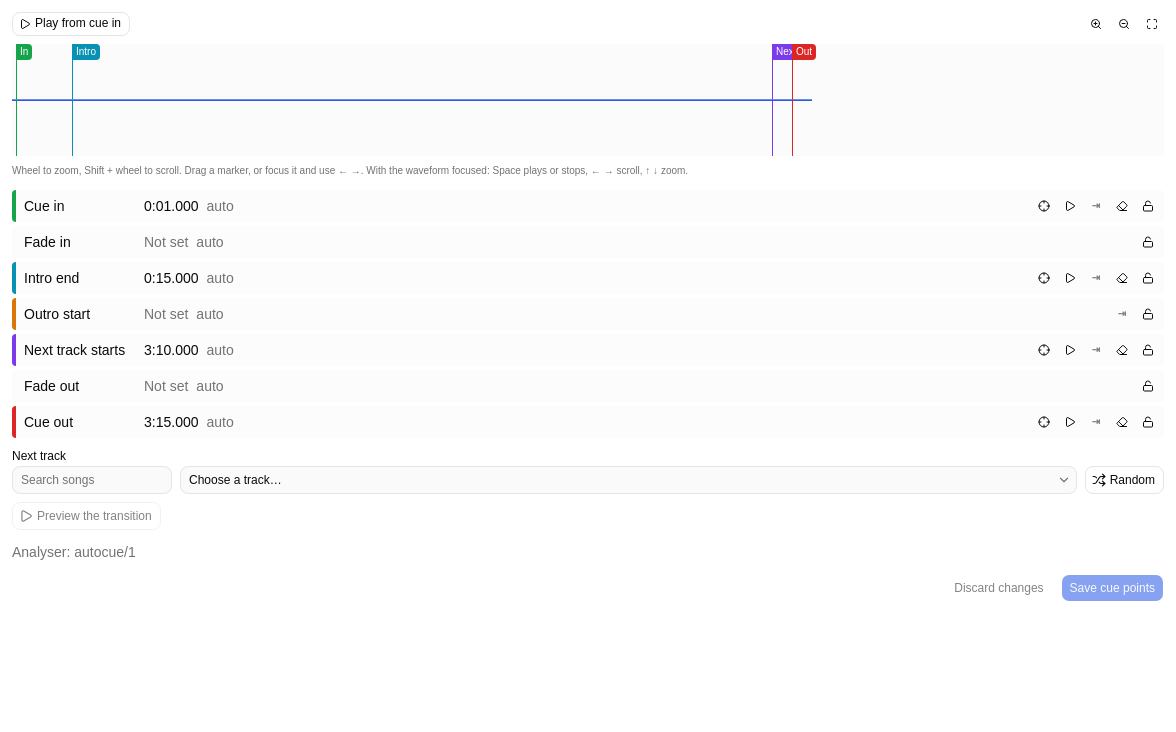
Scenario: cue editor › plays from a marker, past cue-out included, and leaves the cursor there
Expected: the slider named "Cue in" is shown, [16,44,32,60]
What coordinates should you click on to do the following:
click the button named "Play from Cue out"
I would click on:
 (1070, 422)
Its box is [1058,410,1082,434].
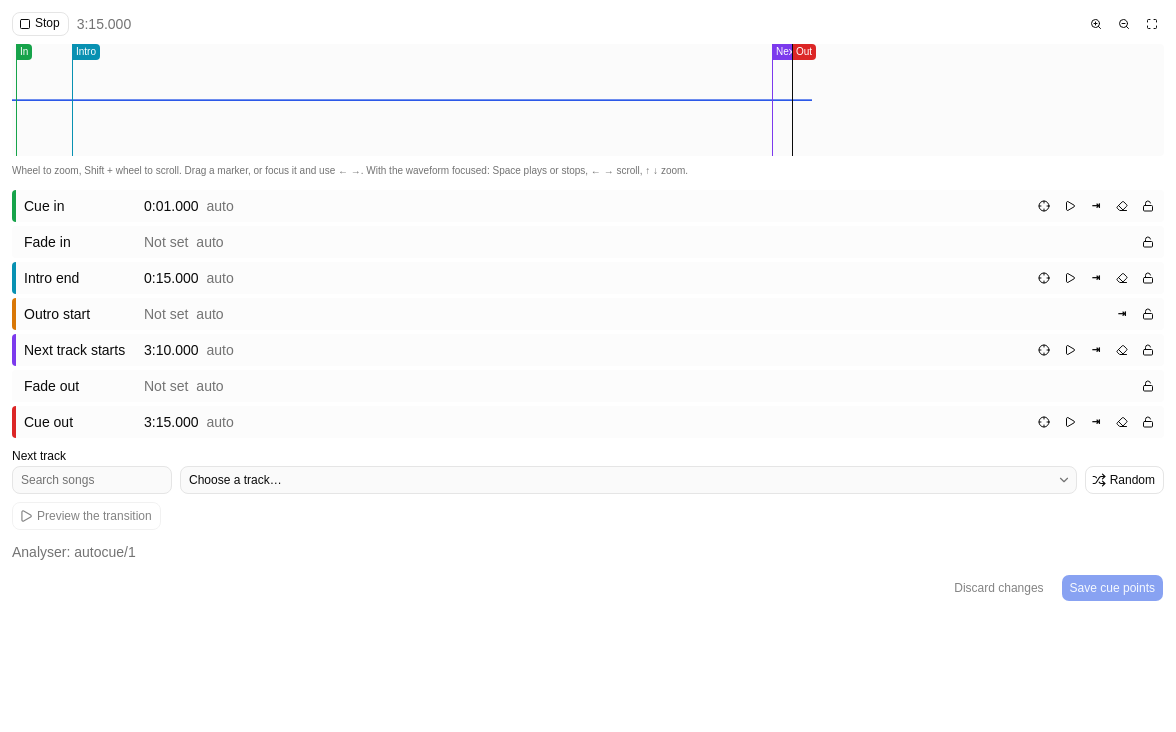
What coordinates should you click on to do the following:
click the button "Stop"
I would click on:
 (40, 24)
Its box is [12,12,69,36].
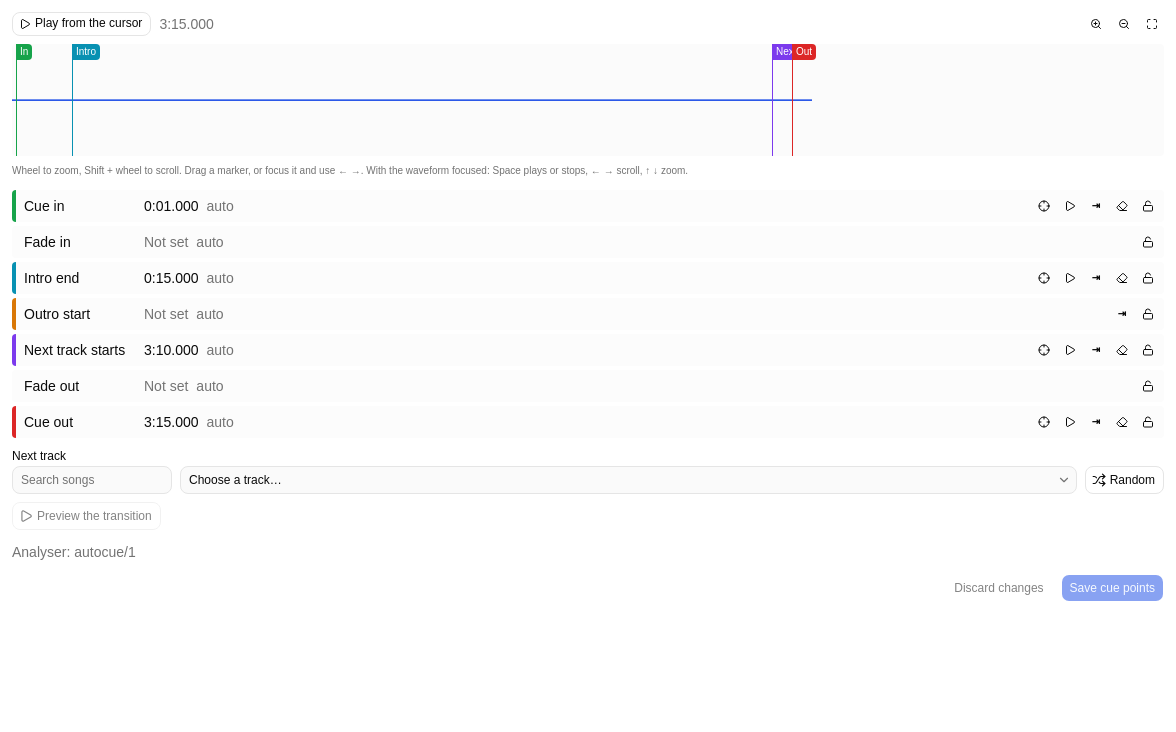
Expected: the 1st text "3:15.000" is shown, [159,14,214,34]
Expected: the button "Play from the cursor" is shown, [12,12,151,36]
